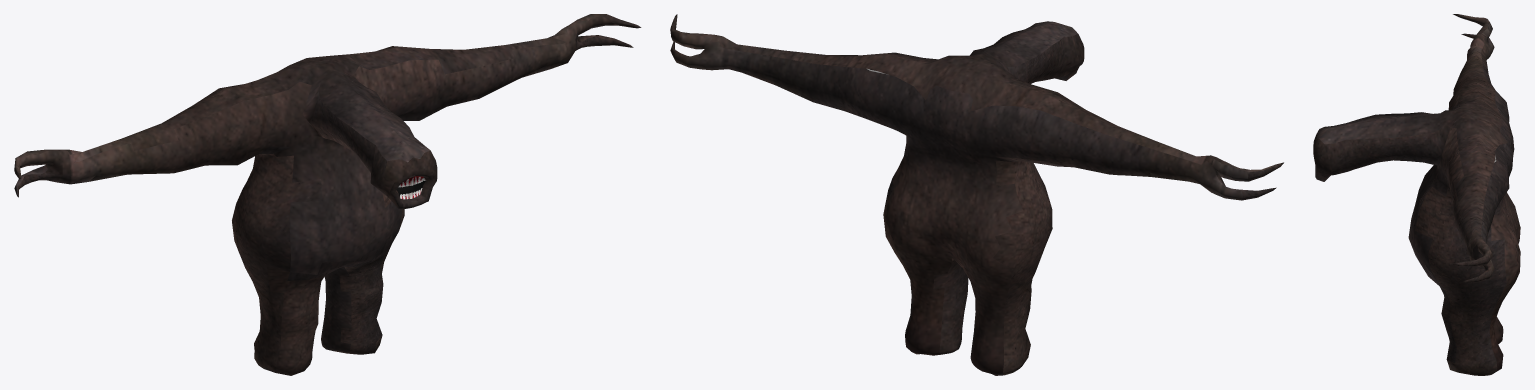
File: MonsterRigged.obj
The picture shows the model from 3 angles, left to right: view 1: azimuth 30°, elevation 25°; view 2: azimuth 150°, elevation 25°; view 3: azimuth 270°, elevation 25°; orthographic projection. The views are drawn at different scales.
Parts seen in each view (by area): view 1: Circle; view 2: Circle; view 3: Circle.
Boxes of the visible parts, x1=… form: Circle: x1=14, y1=14, x2=641, y2=375; Circle: x1=670, y1=14, x2=1283, y2=375; Circle: x1=1313, y1=14, x2=1520, y2=375.
Bounding box in the file's own units: 31.58 × 14.59 × 11.05.
